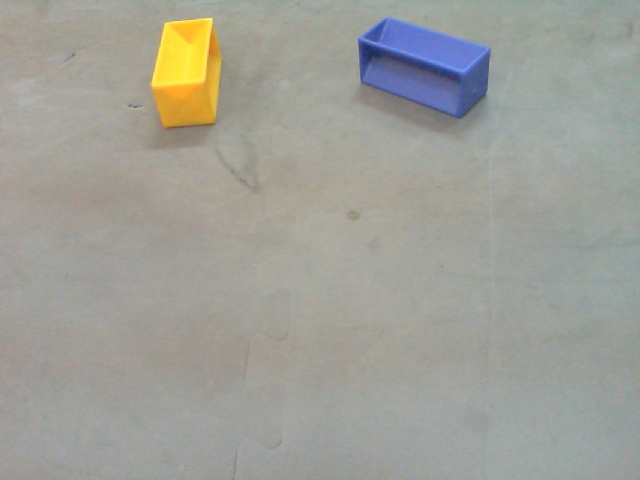BlueSample: (357, 15, 492, 123)
YellowSample: (149, 18, 221, 130)
